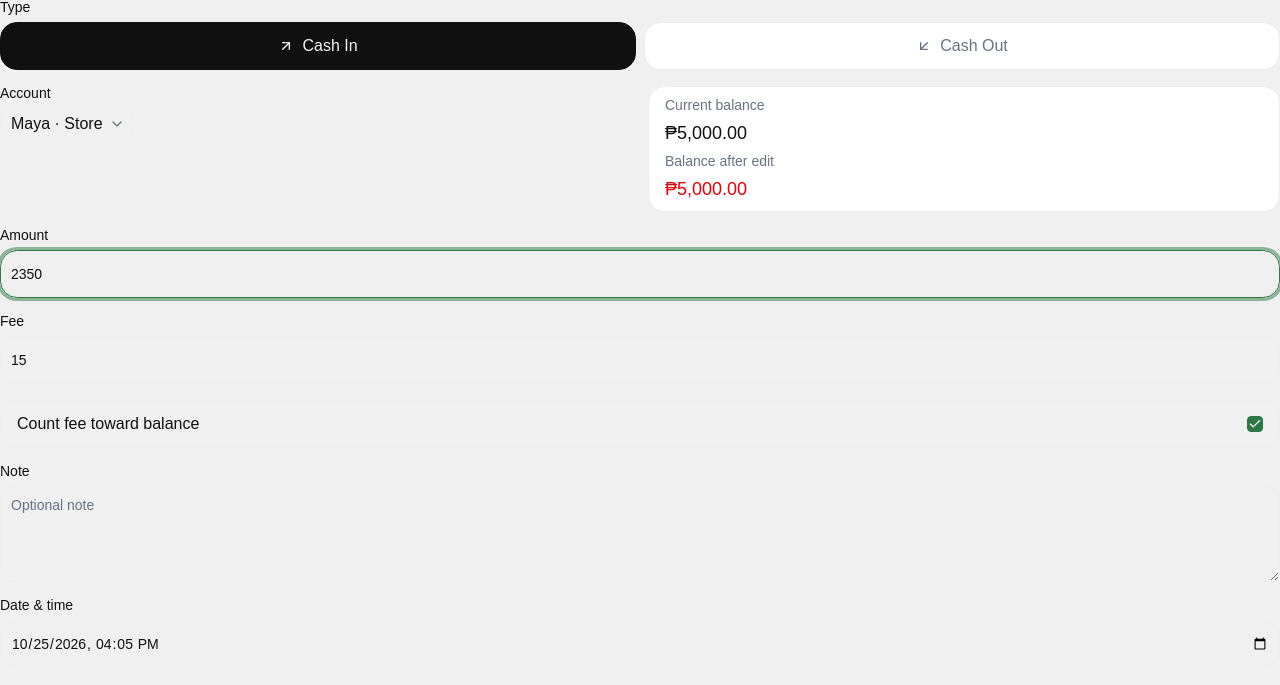
Test case: TransactionForm balance checks › previews the balance after the edit, not a second transaction
Clear the field labelled "Amount" at (640, 274), box [0,250,1279,298]
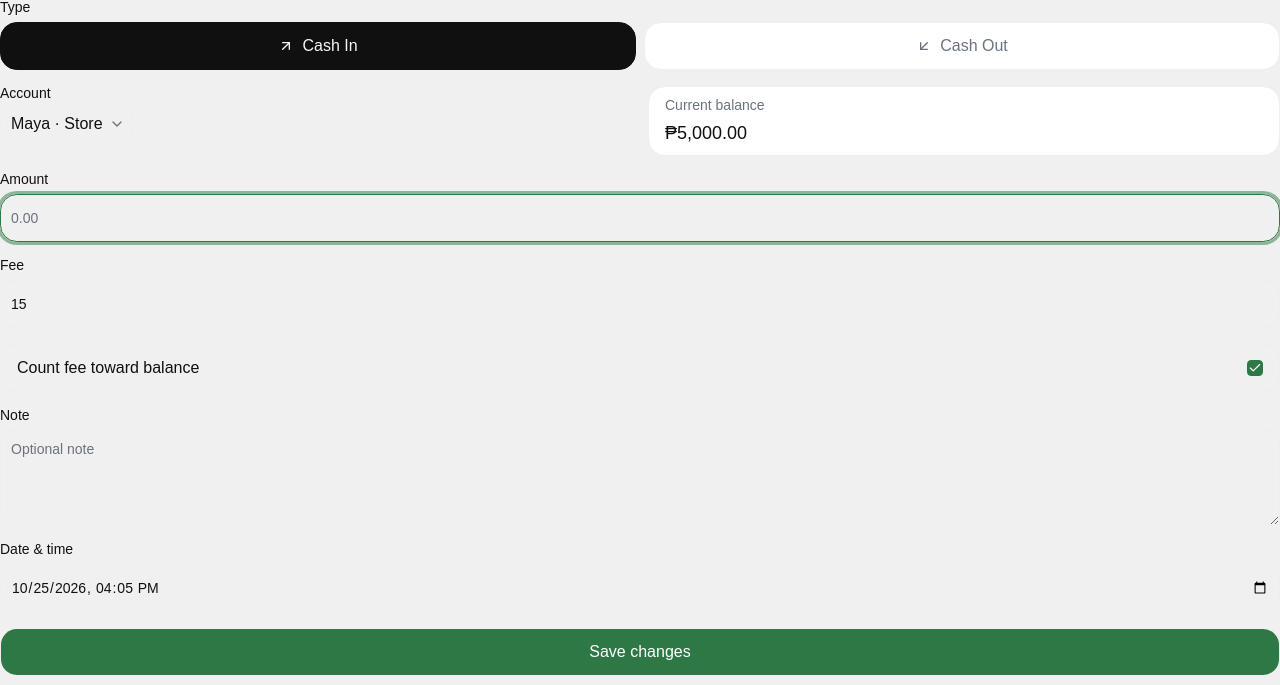
Type "1000" into the field labelled "Amount".
click(640, 218); type("1000")  # box [0,194,1279,242]
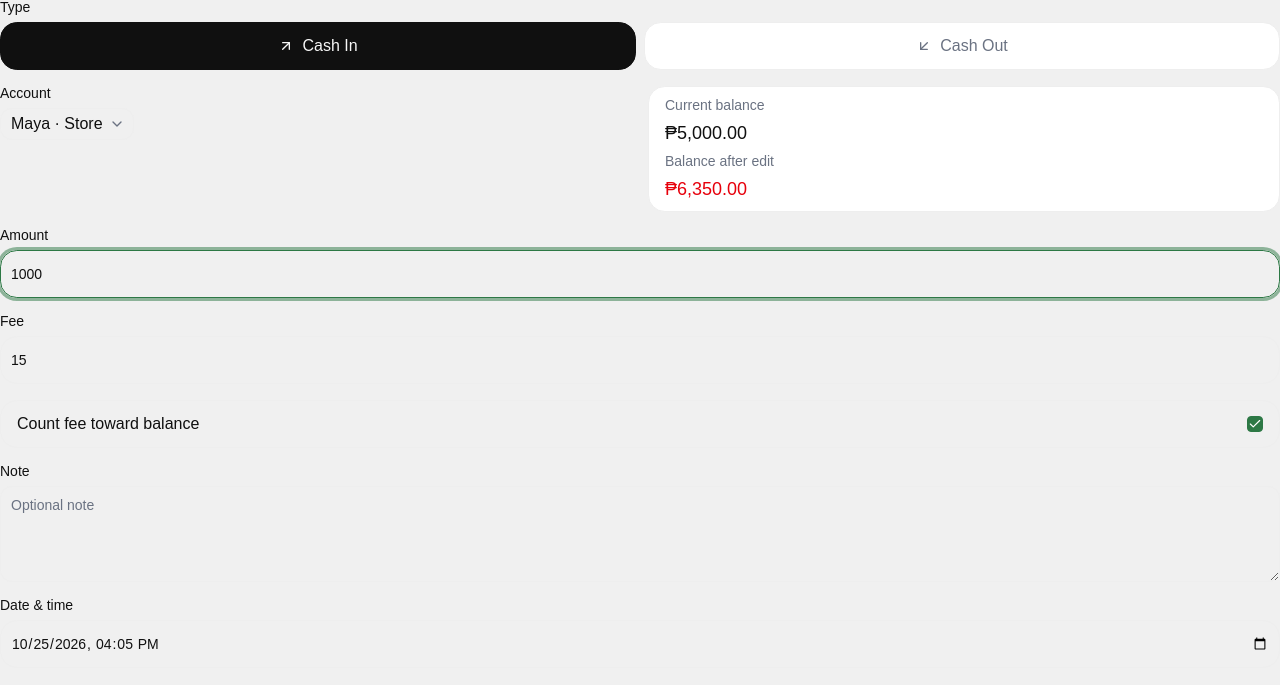
Expected: the text "Balance after edit" is shown, [665,153,774,169]
Expected: the text "₱6,350.00" is shown, [665,179,747,199]
